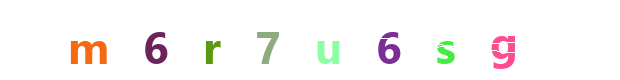6: (170, 0, 250, 80), (301, 0, 381, 80)
7: (229, 0, 309, 80)
G: (446, 0, 526, 80)
M: (47, 0, 127, 80)
R: (225, 0, 305, 80)
S: (406, 0, 486, 80)
U: (271, 0, 351, 80)
